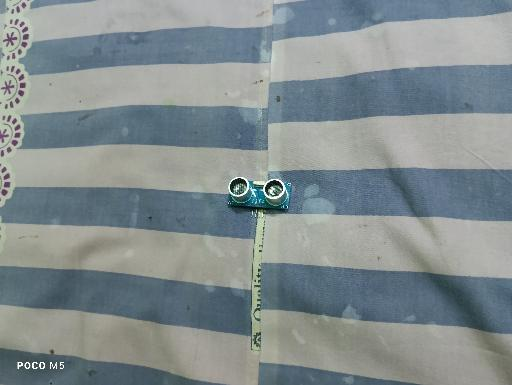sensor: (227, 176, 292, 219)
